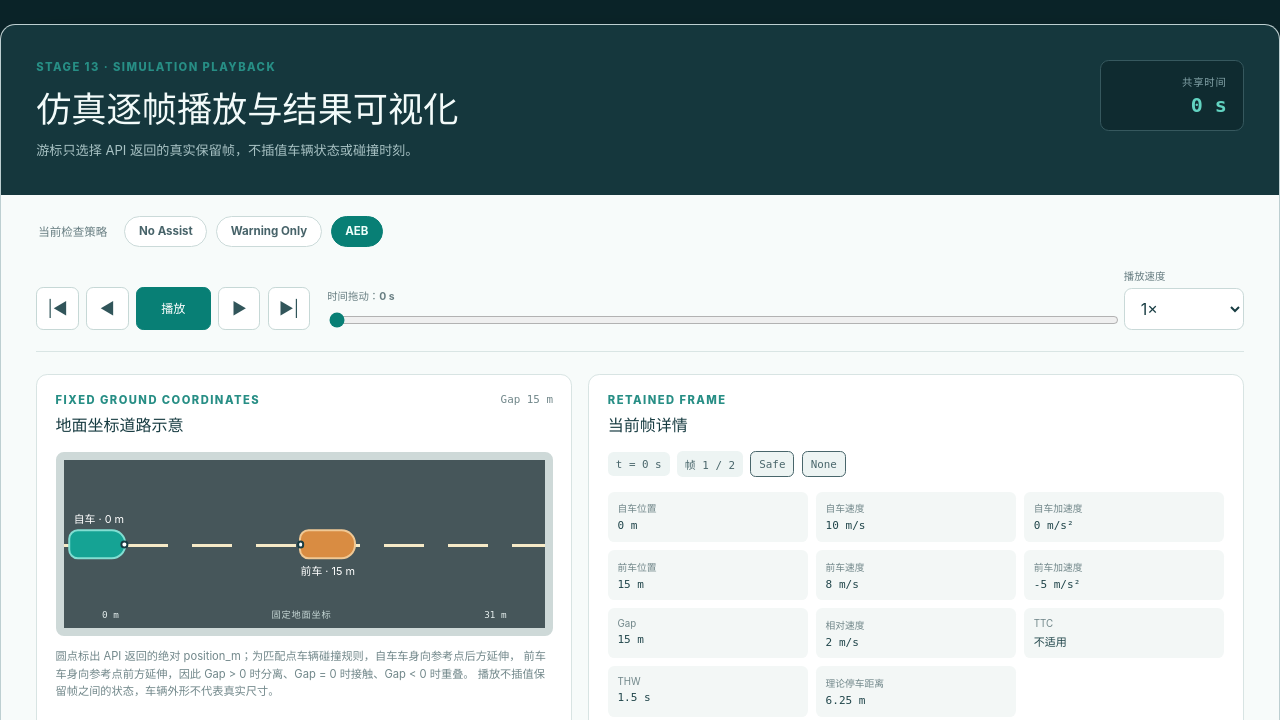
PlaybackWorkbench › uses a shared evaluation timeline, overlays strategies and holds an early final frame
Click the button named "跳到末帧" at (289, 308), box left=268, top=287, right=310, bottom=330
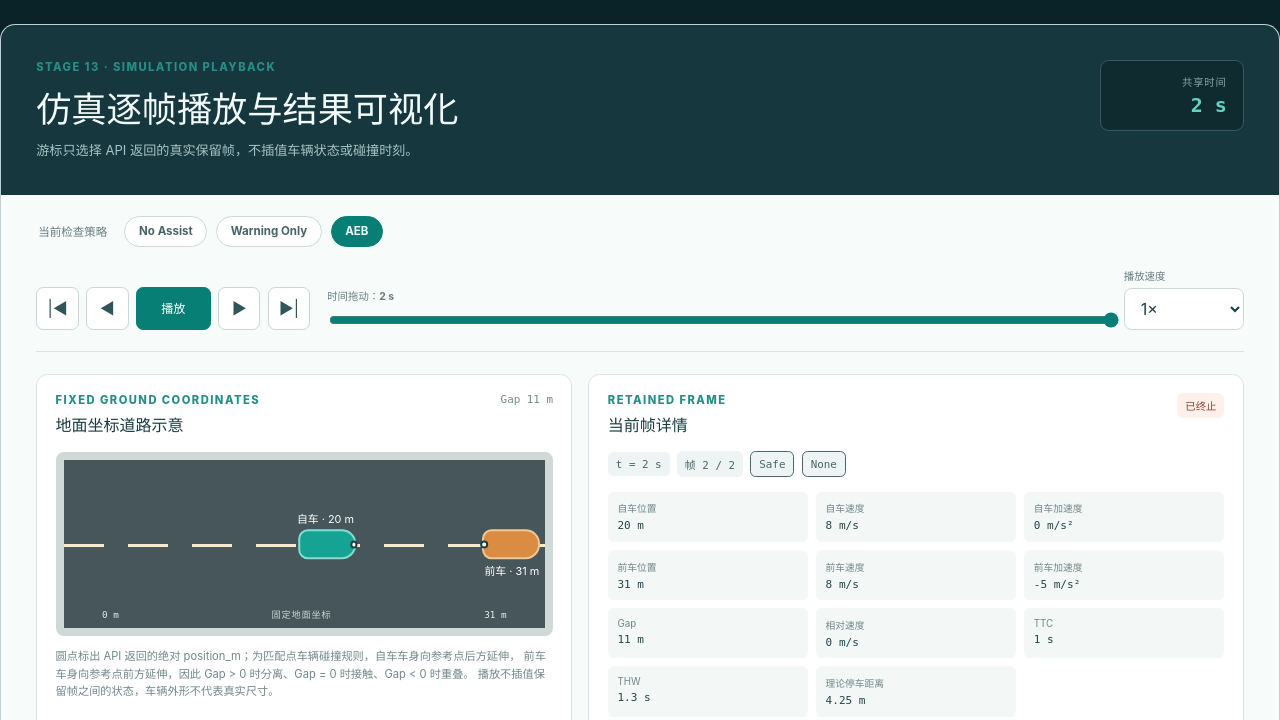
Expected: the text "2 s" is shown, left=1191, top=93, right=1227, bottom=117
Click the button "No Assist" at (166, 231), box left=124, top=216, right=207, bottom=247
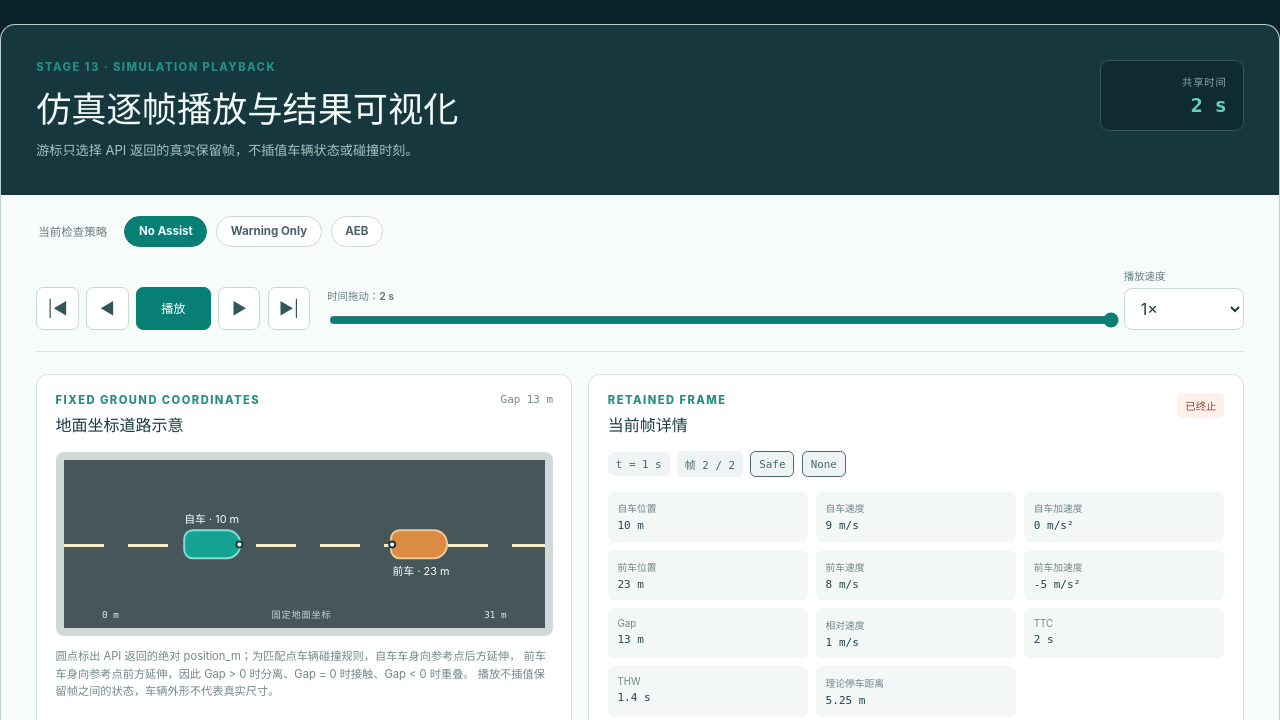
Expected: the button with aria-label "开始播放" is shown, left=136, top=287, right=211, bottom=330
Expected: the text "已终止" is shown, left=1177, top=393, right=1224, bottom=418
Expected: the text "t = 1 s" is shown, left=608, top=452, right=670, bottom=476
